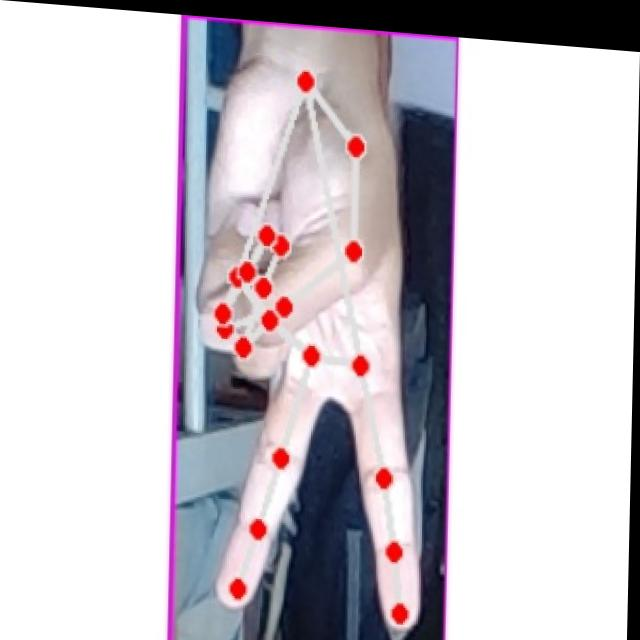V: (189, 38, 427, 631)
